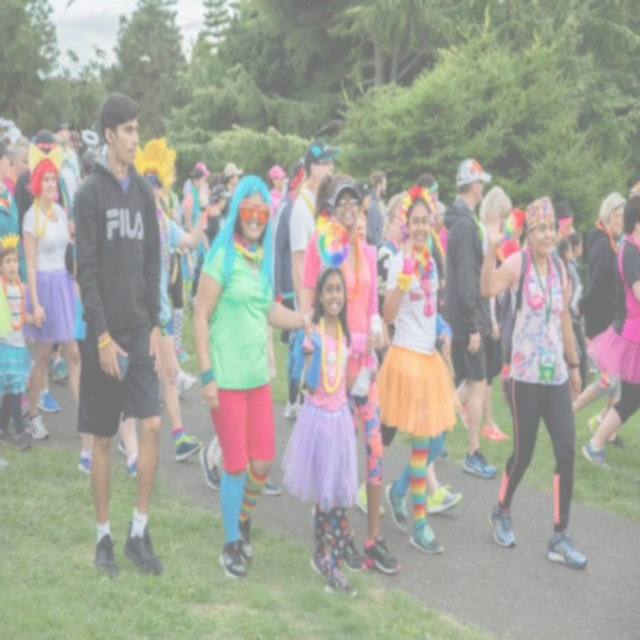pessoa: (190, 168, 316, 582), (71, 88, 175, 586), (468, 190, 593, 574), (353, 188, 465, 521), (371, 194, 465, 559), (115, 130, 213, 465), (327, 175, 400, 578), (300, 262, 380, 600), (202, 193, 284, 498), (72, 160, 140, 480), (438, 156, 498, 480), (20, 140, 84, 443), (571, 189, 628, 452), (458, 185, 514, 442), (578, 189, 628, 452), (0, 230, 49, 456), (268, 159, 308, 422), (297, 170, 369, 315), (286, 138, 342, 314), (0, 140, 32, 426), (0, 114, 111, 190), (334, 181, 377, 363), (11, 128, 66, 242), (166, 161, 194, 364), (414, 171, 446, 312), (180, 168, 207, 316), (566, 232, 587, 394), (147, 349, 197, 412), (496, 198, 536, 272), (52, 119, 84, 211), (612, 168, 640, 268), (179, 160, 212, 228), (200, 183, 232, 253), (552, 328, 583, 396), (548, 194, 576, 263), (364, 169, 388, 246), (430, 200, 448, 293), (496, 356, 522, 414), (264, 163, 288, 224), (199, 175, 223, 234), (6, 134, 32, 186), (262, 306, 278, 389), (556, 238, 574, 294), (434, 220, 454, 266), (178, 176, 193, 236), (219, 160, 244, 193), (581, 342, 601, 380), (276, 170, 292, 206), (296, 159, 312, 193), (394, 183, 410, 204)
